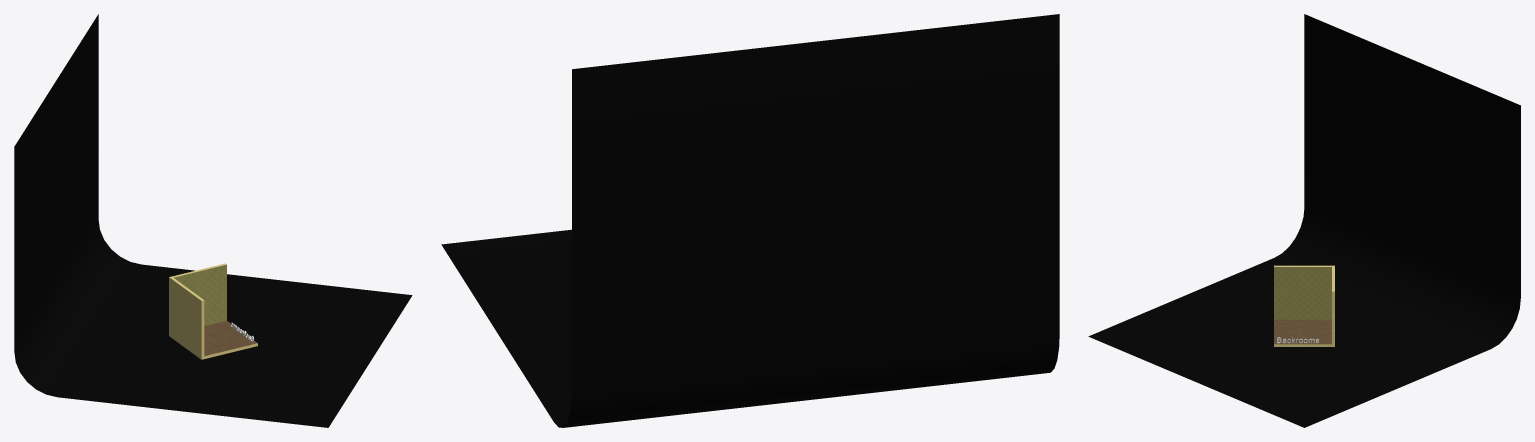
The picture shows the model from 3 angles, left to right: view 1: azimuth 30°, elevation 25°; view 2: azimuth 150°, elevation 25°; view 3: azimuth 270°, elevation 25°; orthographic projection. The views are drawn at different scales.
Parts seen in each view (by area): view 1: Plane, CubeWalls; view 2: Plane; view 3: Plane, CubeWalls.
Part boxes in pixels (bbox=[...]): Plane: bbox=[14, 14, 412, 427]; CubeWalls: bbox=[169, 263, 257, 359]; Plane: bbox=[441, 14, 1059, 427]; Plane: bbox=[1088, 14, 1520, 427]; CubeWalls: bbox=[1274, 265, 1334, 346].
Bounding box in the file's own units: 42.43 × 25 × 42.43.
5 materials, 2 textured.
